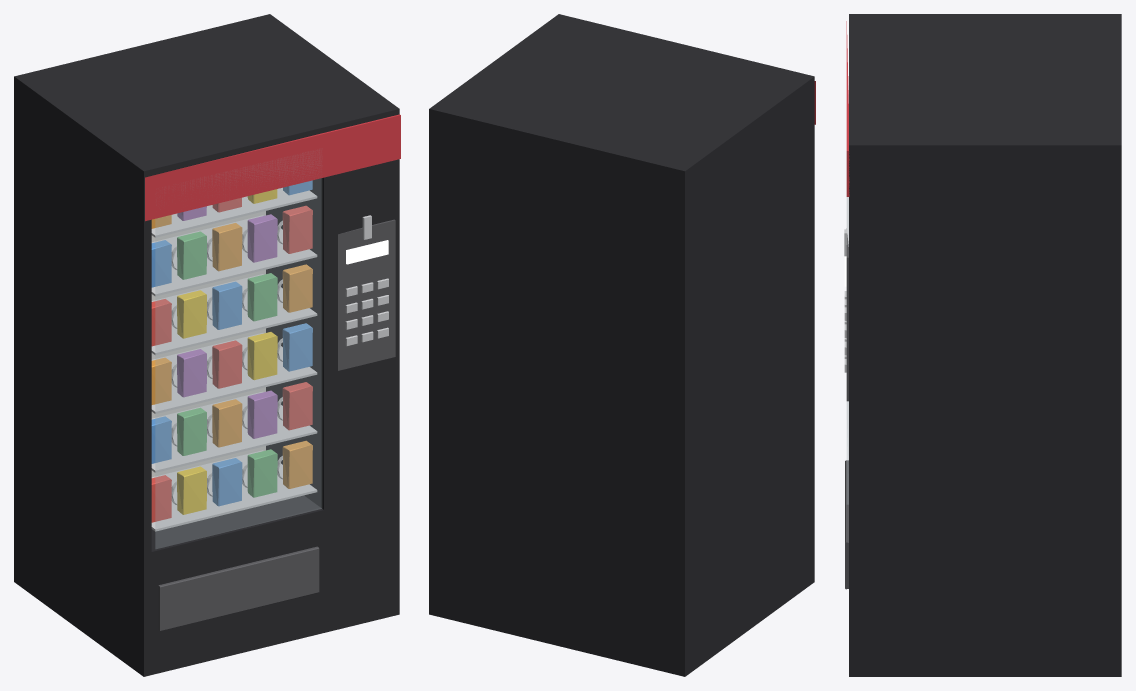
Rendered from hotel-snack-vending-lite.glb.
3 renders of one model, left to right at view 1: azimuth 30°, elevation 25°; view 2: azimuth 150°, elevation 25°; view 3: azimuth 270°, elevation 25°, orthographic. The views are drawn at different scales.
Parts seen in each view (by area): view 1: cabinet, window, header, bin, keypad_panel, tray3, tray2, tray1, tray4, tray0, interior, tray5 (+26 smaller); view 2: cabinet; view 3: cabinet, bin, header, keypad_panel.
Part boxes in pixels (x1,y1,x2,y2): cabinet: (14,14,399,676); window: (155,162,321,548); header: (145,114,400,221); bin: (158,546,319,630); keypad_panel: (338,219,395,370); tray3: (151,274,317,355); tray2: (151,333,317,413); tray1: (151,391,317,472); tray4: (151,215,317,296); tray0: (151,450,317,531); interior: (151,211,265,477); tray5: (151,188,317,237); cabinet: (429,14,814,676); cabinet: (849,14,1121,676); bin: (845,460,848,589); header: (846,21,849,196); keypad_panel: (846,228,848,401).
Size of the model in its own units: 0.98 by 1.85 by 0.875.
